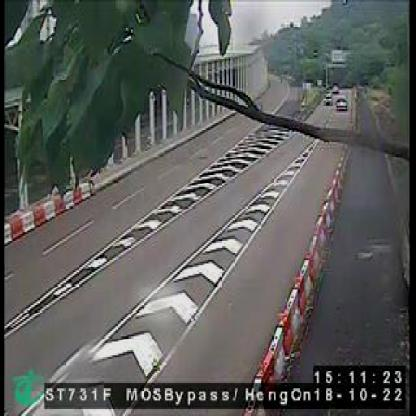Car: (336, 96, 348, 110), (323, 94, 334, 108)
